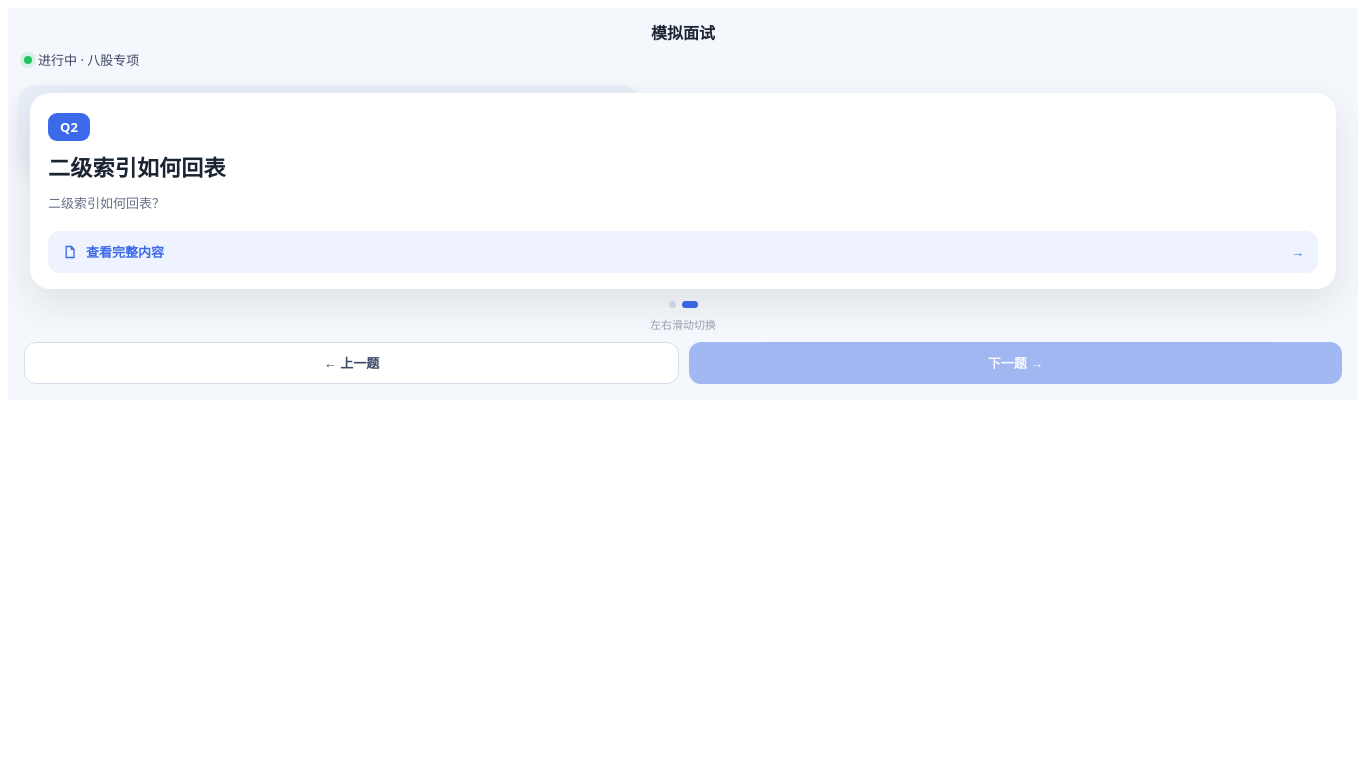
InProgressPanel › swipes right on detail to the previous card
Click the button with test id "open-card-detail" at (125, 252), box [48,231,1318,273]
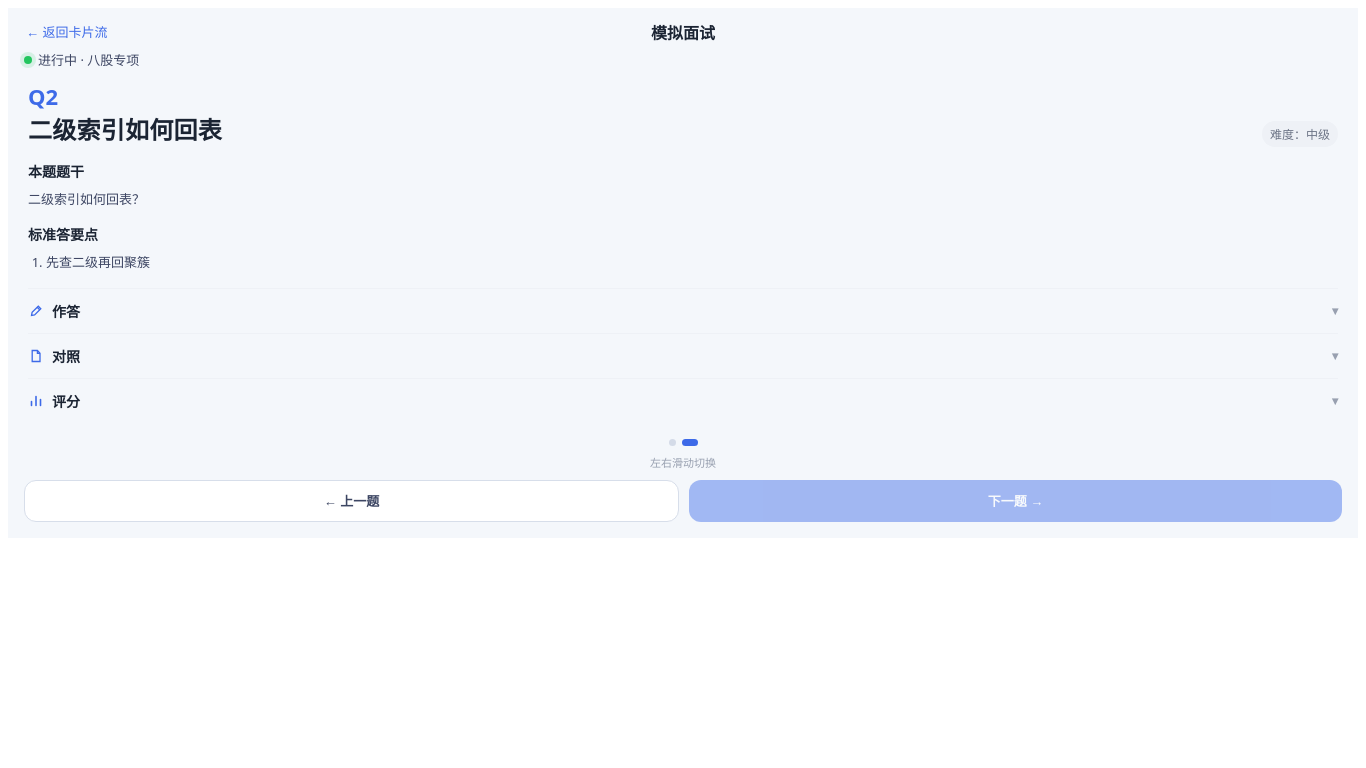
Expected: the text with test id "card-id" reads "Q2", [28,81,58,111]
Press the mouse on the element with test id "card-detail" at (683, 254), box [8,77,1358,431]
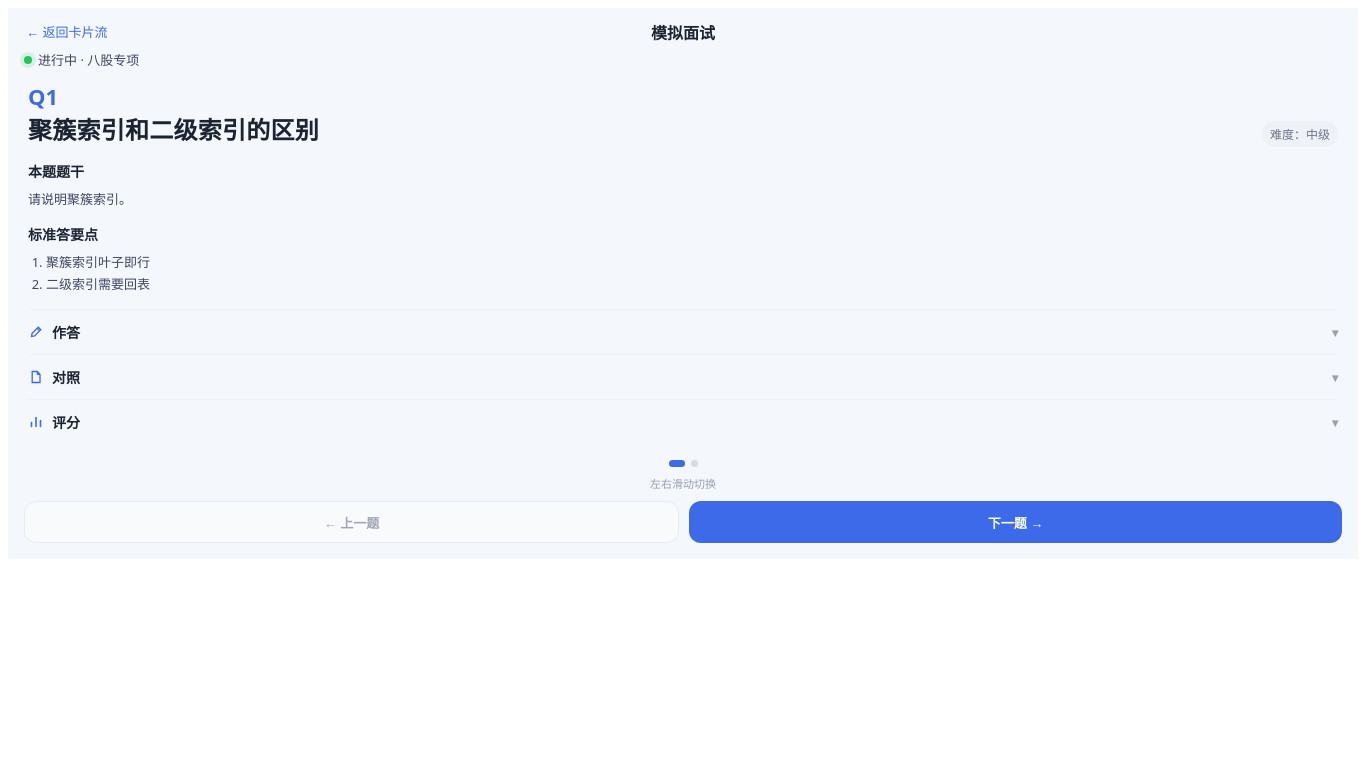
Result: the element with test id "card-detail" is shown at [8,77,1358,452]
Result: the text with test id "card-id" reads "Q1" at [28,81,58,111]
